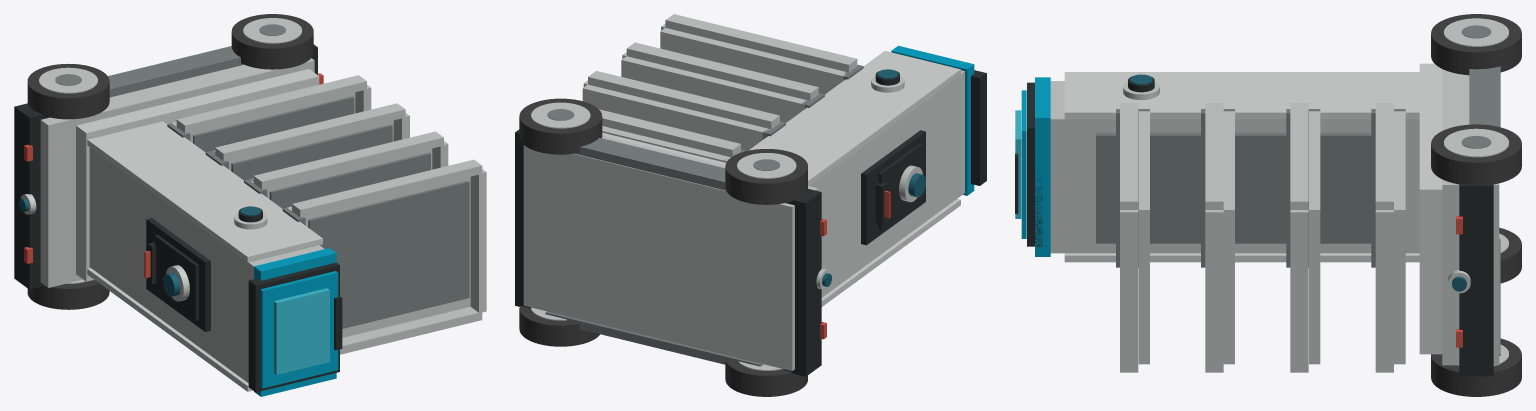
The model's file is service_robot_cart_geo_urdf_visual.glb.
3 renders of one model, left to right at view 1: azimuth 30°, elevation 25°; view 2: azimuth 150°, elevation 25°; view 3: azimuth 270°, elevation 25°, orthographic. The views are drawn at different scales.
Visible parts, largest first — view 1: tray_4_link_tray_4_dark_inset, body_link_straight_main_body, body_link_left_vertical_trim, base_link_lower_chassis, base_link_upper_deck, base_link_rear_black_bumper, top_display_link_top_display_screen, top_display_link_top_display_blue_bezel, tray_4_link_tray_4_left_rail, tray_2_link_tray_2_left_rail, tray_1_link_tray_1_left_rail, tray_3_link_tray_3_left_rail (+22 smaller); view 2: base_link_lower_chassis, body_link_straight_main_body, body_link_left_vertical_trim, base_link_rear_black_bumper, tray_4_link_tray_4_deck, tray_3_link_tray_3_deck, tray_2_link_tray_2_deck, base_link_left_side_skirt, tray_3_link_tray_3_left_rail, tray_4_link_tray_4_left_rail, tray_2_link_tray_2_left_rail, rear_left_wheel_link_rear_left_wheel_link_rubber_tire (+17 smaller); view 3: body_link_front_dark_service_panel, body_link_left_vertical_trim, body_link_straight_main_body, base_link_upper_deck, base_link_front_black_bumper, base_link_lower_chassis, front_left_wheel_link_front_left_wheel_link_rubber_tire, rear_left_wheel_link_rear_left_wheel_link_rubber_tire, tray_1_link_tray_1_deck, tray_2_link_tray_2_deck, tray_3_link_tray_3_deck, tray_4_link_tray_4_deck (+22 smaller).
Part boxes in pixels (x1=…): tray_4_link_tray_4_dark_inset: x1=308, y1=181, x2=469, y2=328; body_link_straight_main_body: x1=89, y1=147, x2=324, y2=382; body_link_left_vertical_trim: x1=87, y1=121, x2=322, y2=262; base_link_lower_chassis: x1=40, y1=58, x2=314, y2=287; base_link_upper_deck: x1=76, y1=69, x2=319, y2=281; base_link_rear_black_bumper: x1=14, y1=103, x2=49, y2=289; top_display_link_top_display_screen: x1=274, y1=288, x2=329, y2=374; top_display_link_top_display_blue_bezel: x1=260, y1=271, x2=338, y2=388; tray_4_link_tray_4_left_rail: x1=292, y1=159, x2=482, y2=217; tray_2_link_tray_2_left_rail: x1=215, y1=103, x2=405, y2=161; tray_1_link_tray_1_left_rail: x1=176, y1=75, x2=366, y2=132; tray_3_link_tray_3_left_rail: x1=253, y1=131, x2=443, y2=189; base_link_lower_chassis: x1=523, y1=135, x2=817, y2=370; body_link_straight_main_body: x1=809, y1=70, x2=964, y2=297; body_link_left_vertical_trim: x1=749, y1=51, x2=960, y2=185; base_link_rear_black_bumper: x1=783, y1=189, x2=821, y2=376; tray_4_link_tray_4_deck: x1=660, y1=28, x2=846, y2=94; tray_3_link_tray_3_deck: x1=621, y1=56, x2=809, y2=122; tray_2_link_tray_2_deck: x1=582, y1=84, x2=770, y2=150; base_link_left_side_skirt: x1=575, y1=137, x2=725, y2=190; tray_3_link_tray_3_left_rail: x1=626, y1=42, x2=818, y2=100; tray_4_link_tray_4_left_rail: x1=665, y1=14, x2=857, y2=72; tray_2_link_tray_2_left_rail: x1=588, y1=71, x2=779, y2=129; rear_left_wheel_link_rear_left_wheel_link_rubber_tire: x1=725, y1=149, x2=807, y2=204; body_link_front_dark_service_panel: x1=1096, y1=132, x2=1371, y2=243; body_link_left_vertical_trim: x1=1064, y1=72, x2=1419, y2=119; body_link_straight_main_body: x1=1050, y1=81, x2=1419, y2=253; base_link_upper_deck: x1=1419, y1=63, x2=1442, y2=354; base_link_front_black_bumper: x1=1459, y1=183, x2=1493, y2=376; base_link_lower_chassis: x1=1442, y1=69, x2=1499, y2=365; front_left_wheel_link_front_left_wheel_link_rubber_tire: x1=1431, y1=124, x2=1521, y2=184; rear_left_wheel_link_rear_left_wheel_link_rubber_tire: x1=1431, y1=14, x2=1521, y2=75; tray_1_link_tray_1_deck: x1=1394, y1=111, x2=1405, y2=364; tray_2_link_tray_2_deck: x1=1309, y1=111, x2=1320, y2=364; tray_3_link_tray_3_deck: x1=1223, y1=111, x2=1234, y2=364; tray_4_link_tray_4_deck: x1=1138, y1=111, x2=1149, y2=364.
Size of the model in its own units: 1.4 by 0.922 by 1.78.
